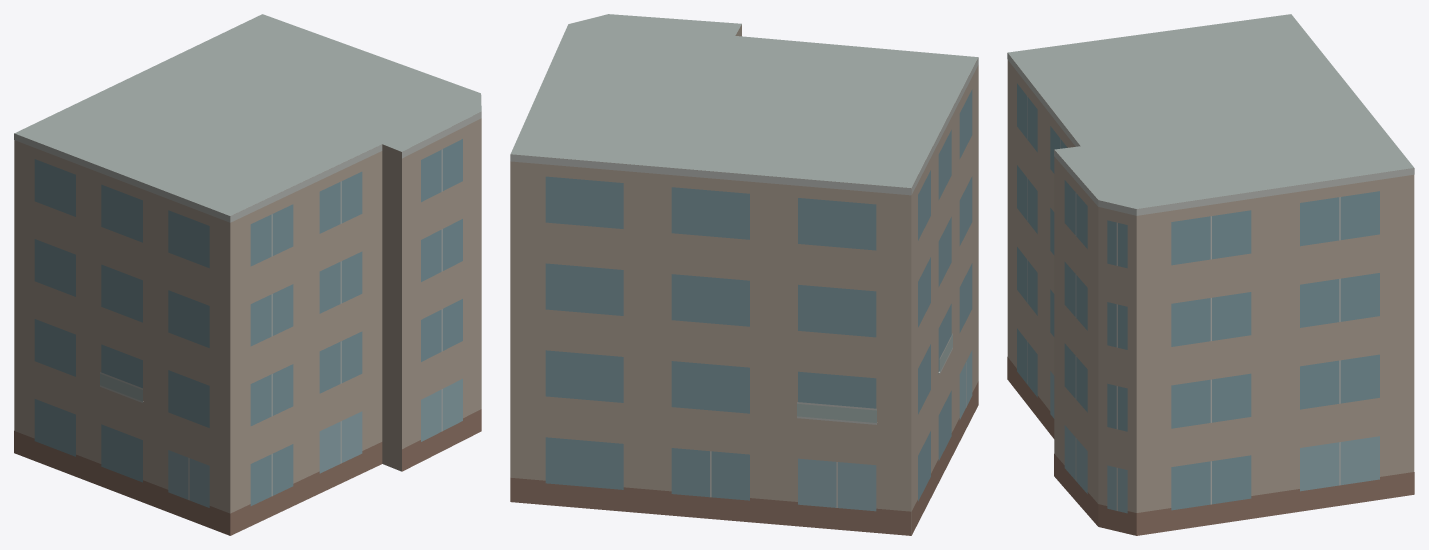
File: survey-upis-32864504.glb
3 renders of one model, left to right at view 1: azimuth 30°, elevation 25°; view 2: azimuth 150°, elevation 25°; view 3: azimuth 270°, elevation 25°, orthographic. The views are drawn at different scales.
Visible parts, largest first — view 1: survey-upis-32864504.tmp; view 2: survey-upis-32864504.tmp; view 3: survey-upis-32864504.tmp.
Part boxes in pixels (x1,y1,x2,y2): survey-upis-32864504.tmp: (14, 14, 481, 535); survey-upis-32864504.tmp: (510, 14, 978, 535); survey-upis-32864504.tmp: (1007, 14, 1414, 535).
Size of the model in its own units: 15.12 by 11.8 by 13.33.
